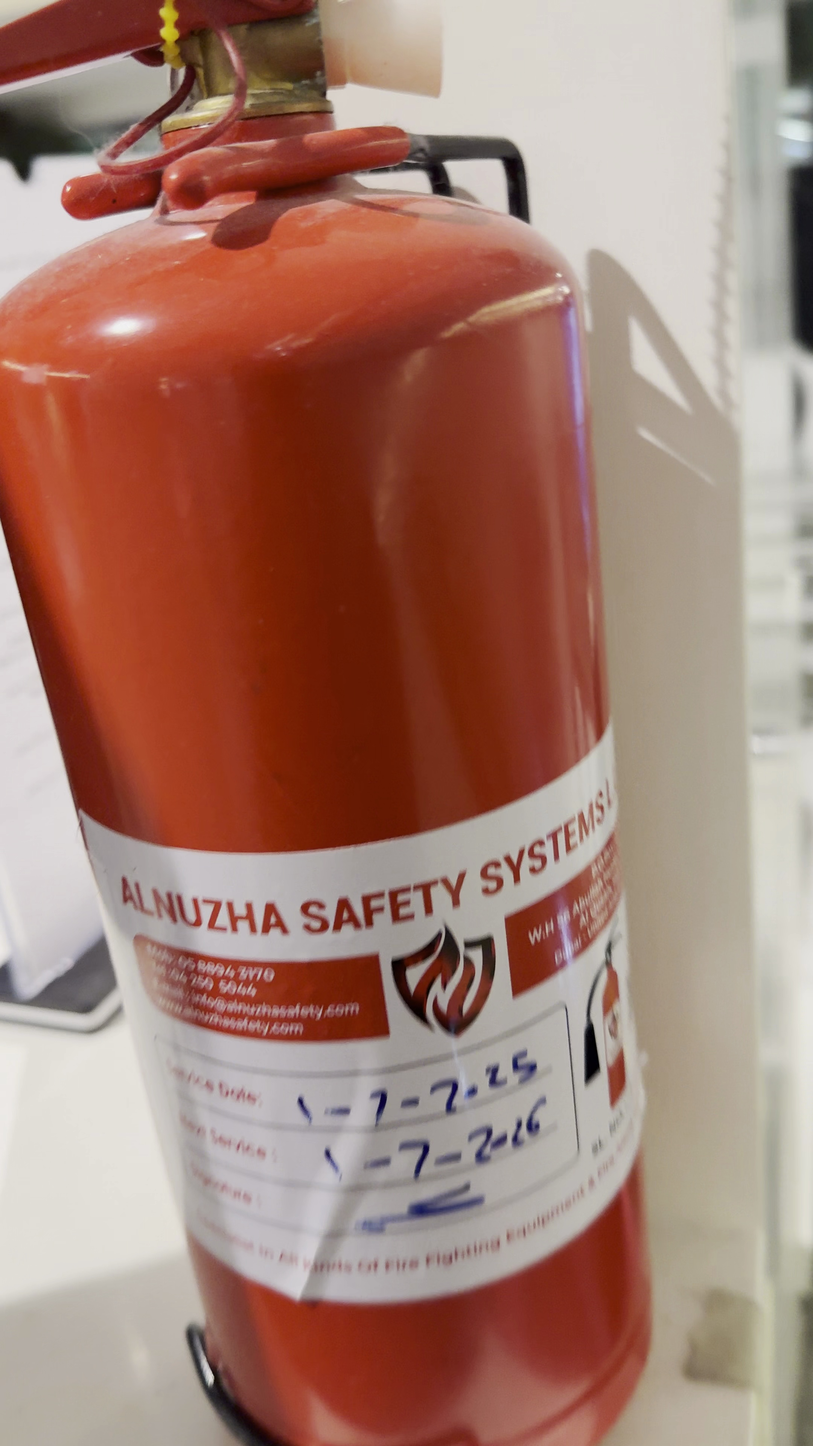fire_extinguisher: (2, 1, 655, 1444)
